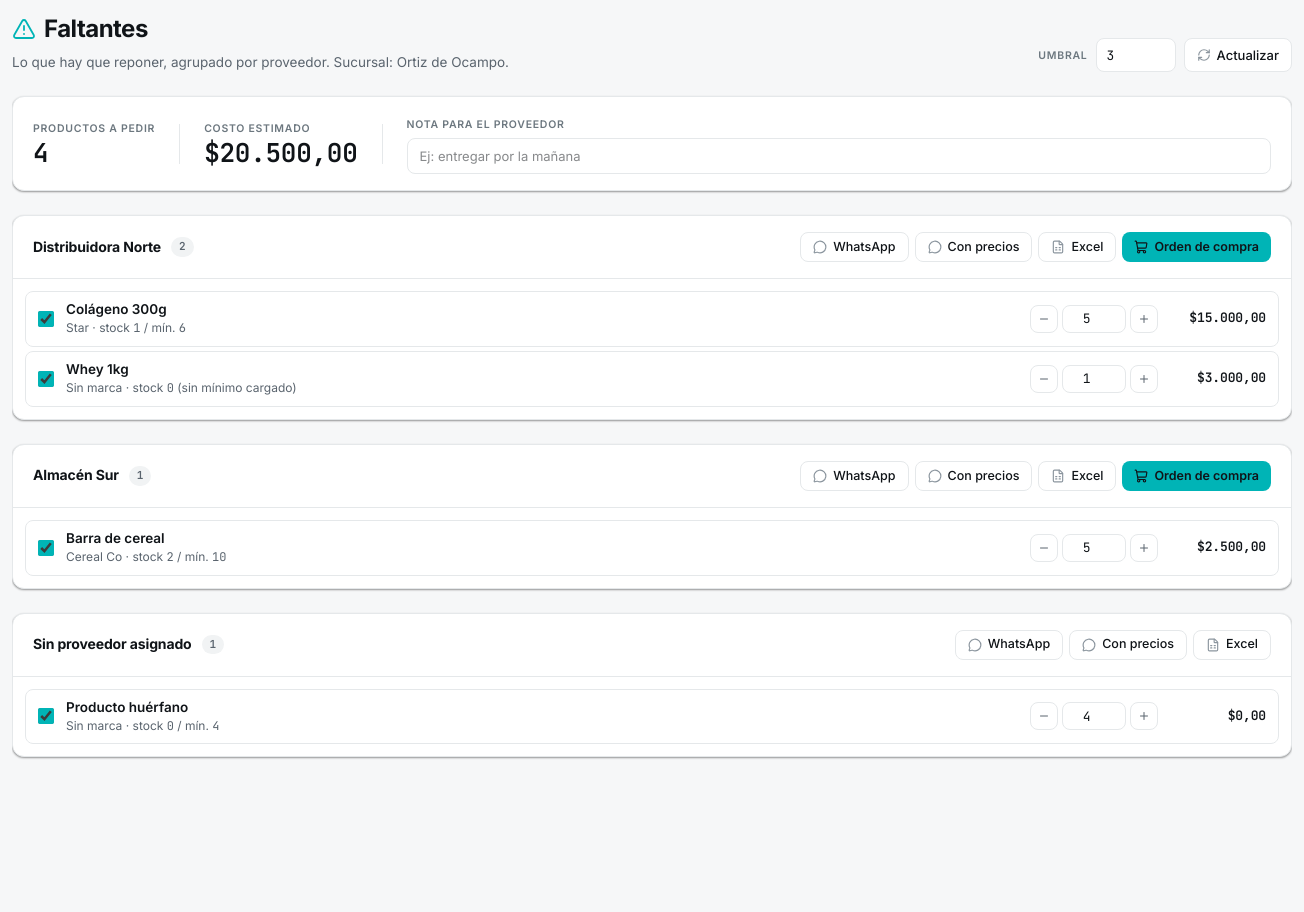
Scenario: Los totales cuentan lo que de verdad se va a pedir › destildar un producto lo saca de los DOS números
Click the checkbox named "Pedir Colágeno 300g". click: (46, 319)
box: 38,311 -> 54,327
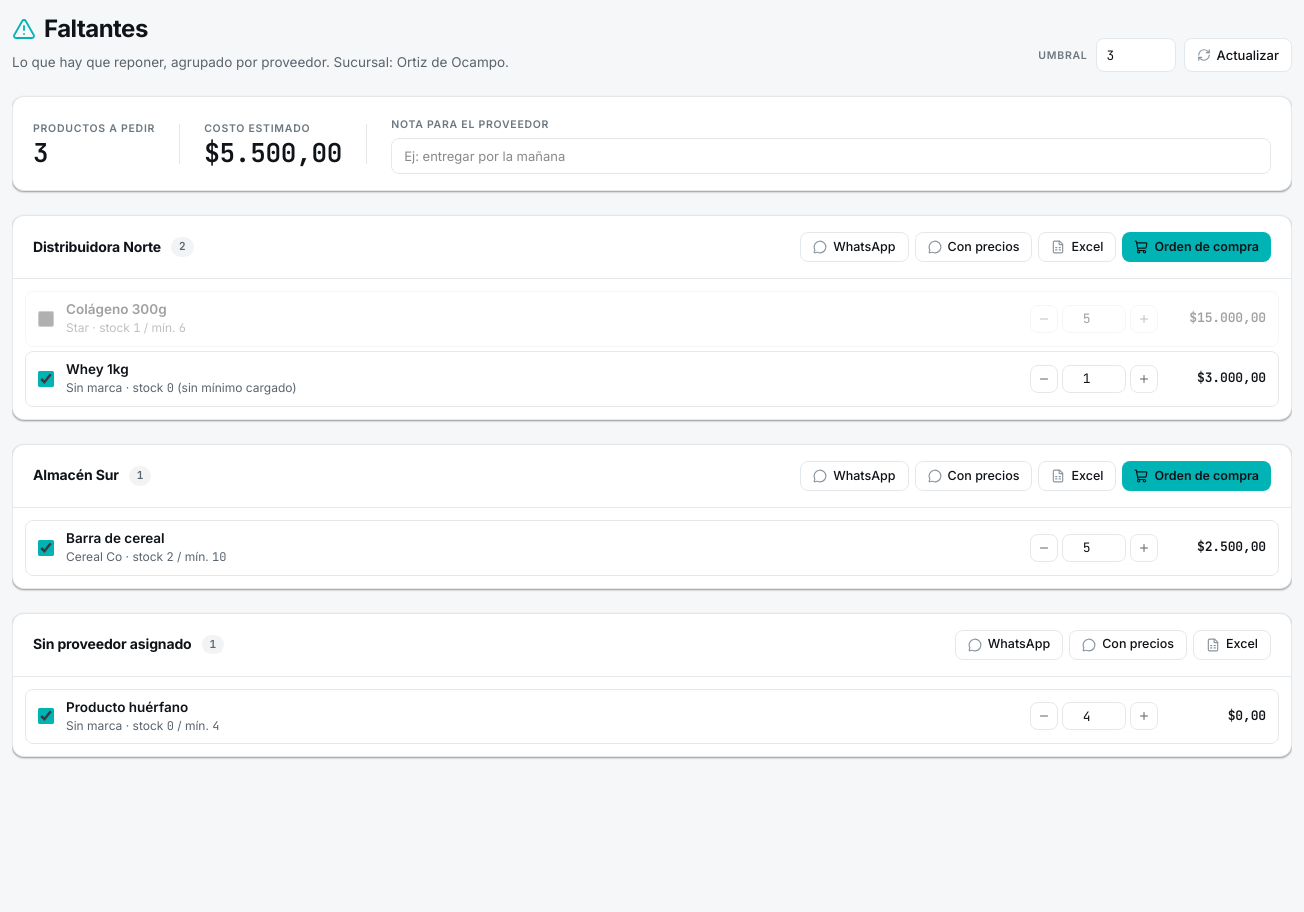
Result: the text with class "num" reads "3" at 33,135 -> 48,170
Result: the text with class "num" shows "5.500" at 220,135 -> 342,170
